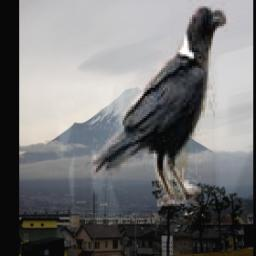Crow: (90, 0, 229, 208)
